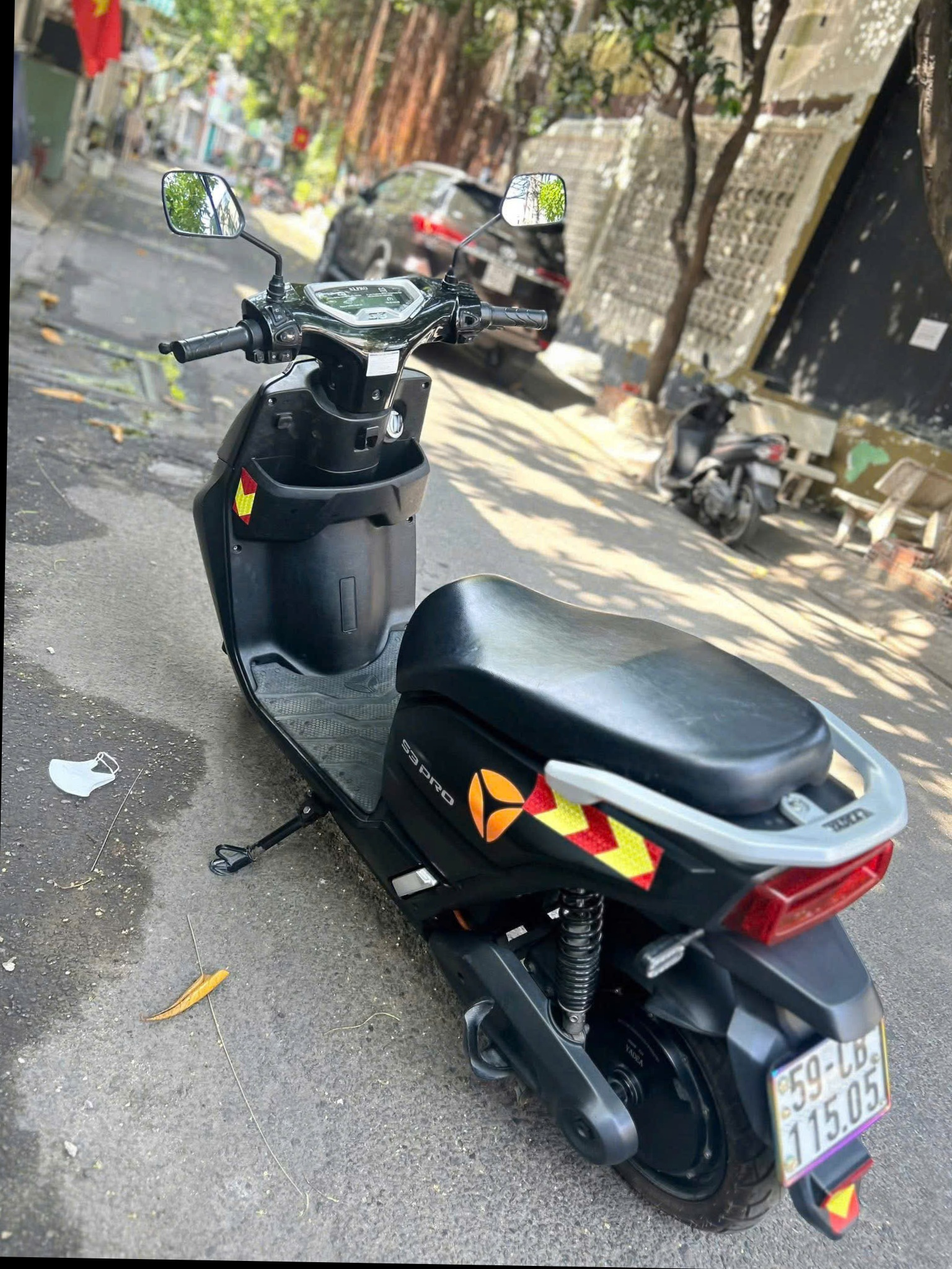Bien-so: (770, 958, 910, 1134)
